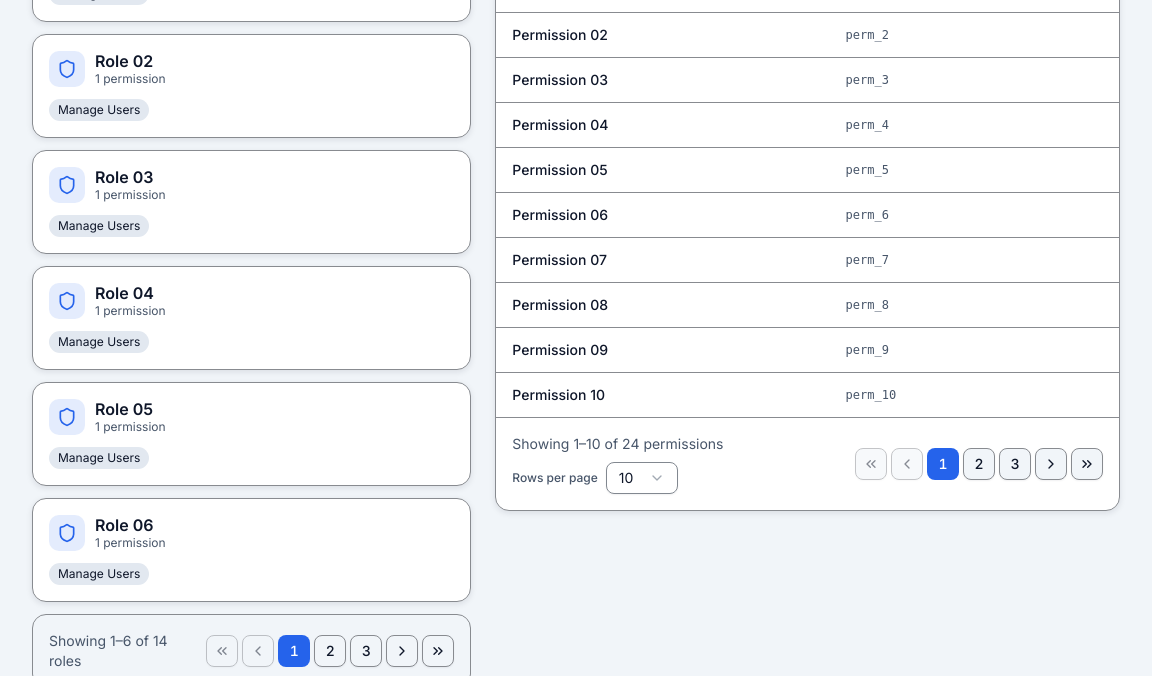
it: <RolesAndPermissionsClient> › pages the role cards separately from the permission table
The image size is (1152, 676).
(page scrolled)
Expected: the text "Role 07" is not shown
Click the button named "Go to page 2" at (330,651), box [314,635,346,667]
(page scrolled)
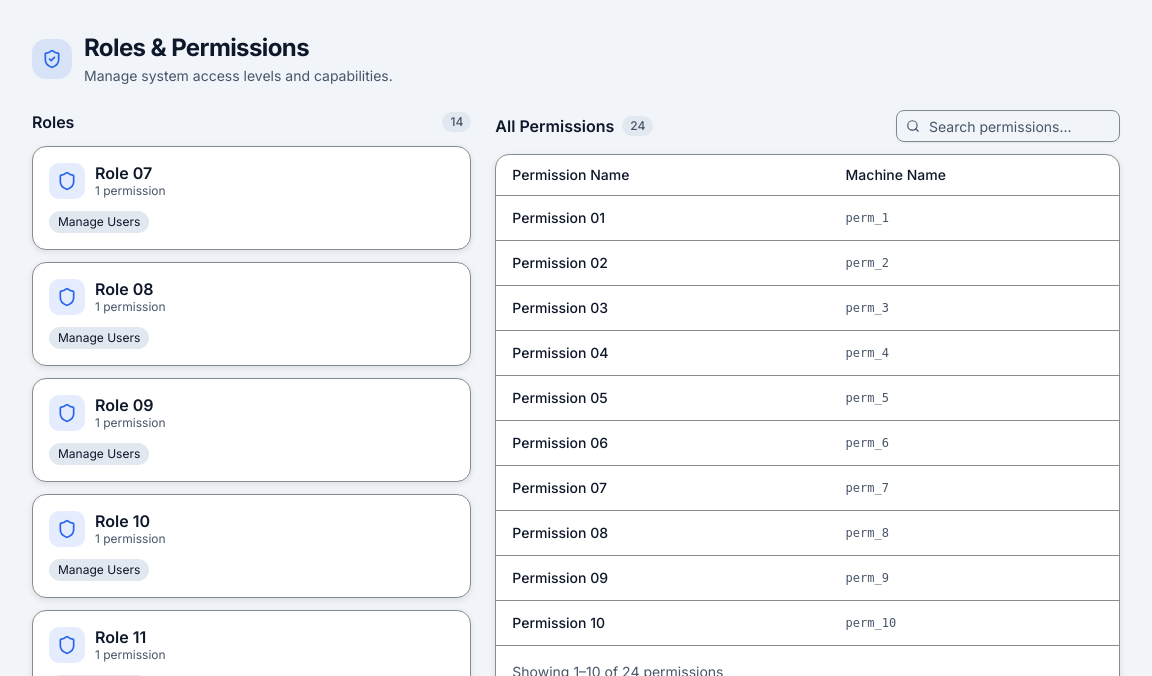
Expected: the text "Permission 01" is shown, [496,196,838,240]
Now the text "Role 07" is shown, box [95,163,152,183]
